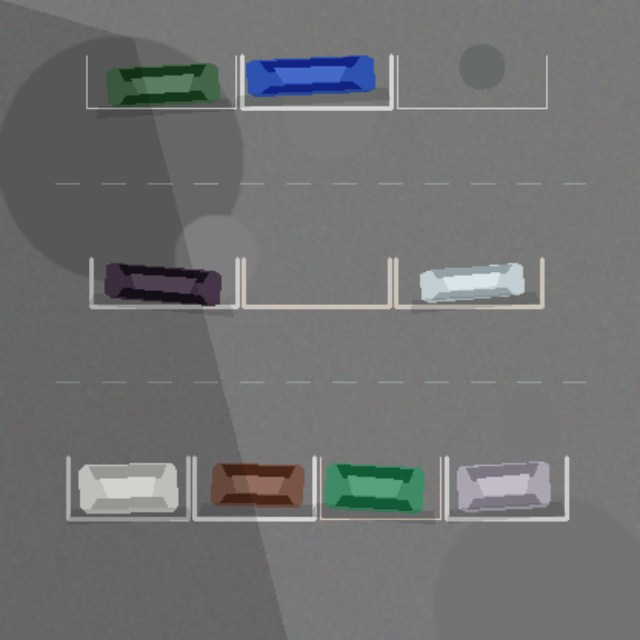space-empty: (397, 55, 546, 108), (243, 258, 389, 306)
space-occupied: (86, 55, 235, 108), (242, 55, 391, 108), (68, 457, 188, 518), (194, 457, 314, 518), (320, 457, 440, 518), (446, 457, 566, 518), (395, 258, 542, 306), (91, 258, 237, 306)
